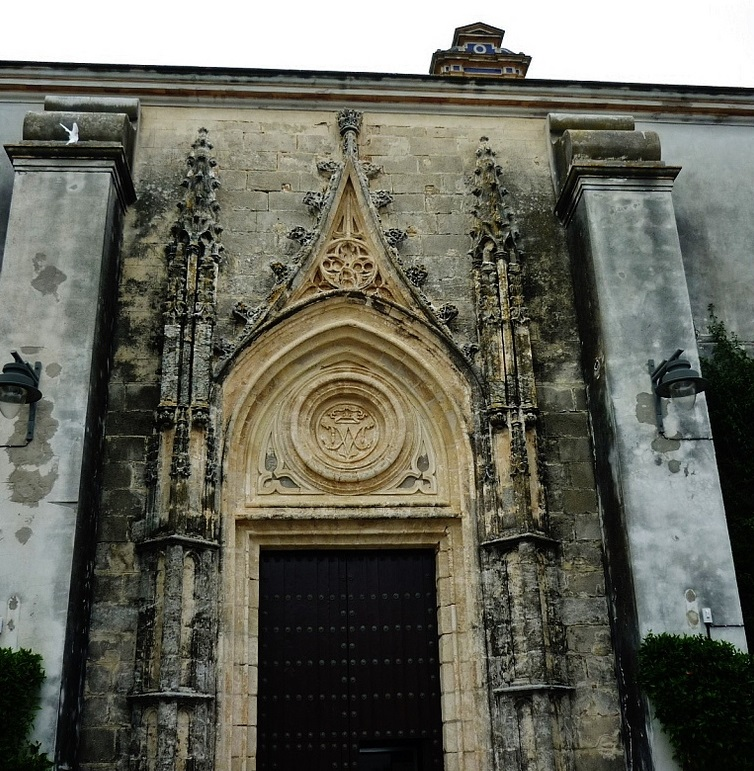arco-apuntado: (226, 311, 473, 507)
